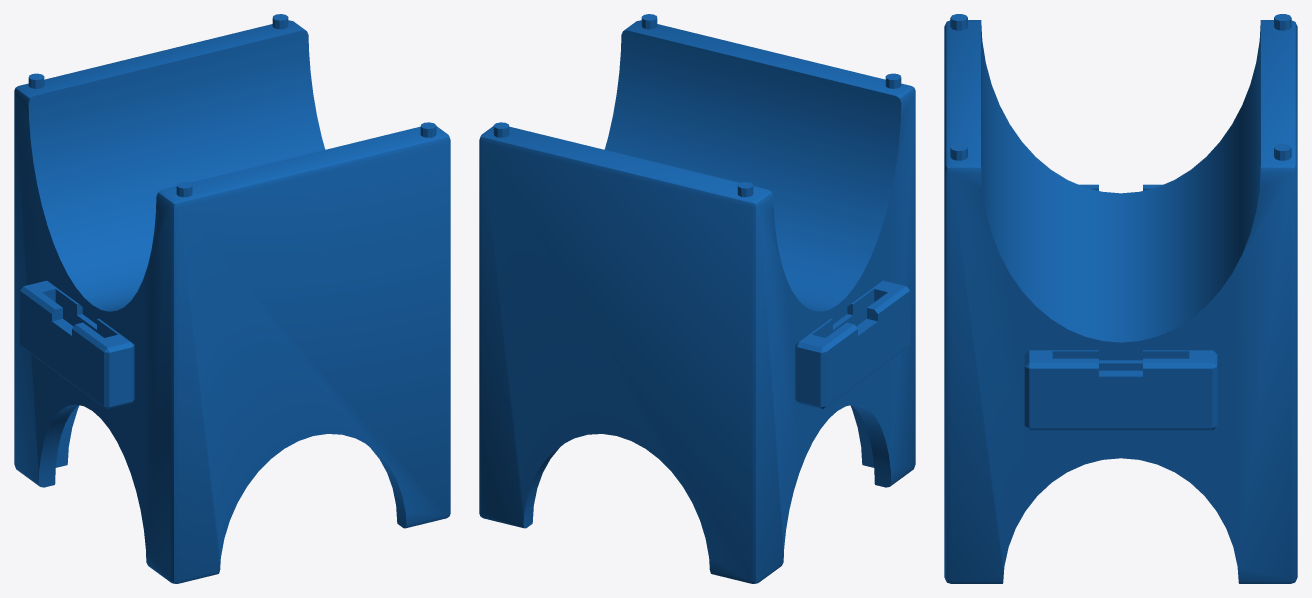
3 renders of one model, left to right at view 1: azimuth 30°, elevation 25°; view 2: azimuth 150°, elevation 25°; view 3: azimuth 270°, elevation 25°, orthographic. The views are drawn at different scales.
Parts seen in each view (by area): view 1: B-01; view 2: B-01; view 3: B-01.
Boxes of the visible parts, bbox=[...] form: B-01: bbox=[14, 14, 450, 583]; B-01: bbox=[479, 14, 915, 583]; B-01: bbox=[944, 14, 1297, 583].
Size of the model in its own units: 0.0492 by 0.0542 by 0.0404.
